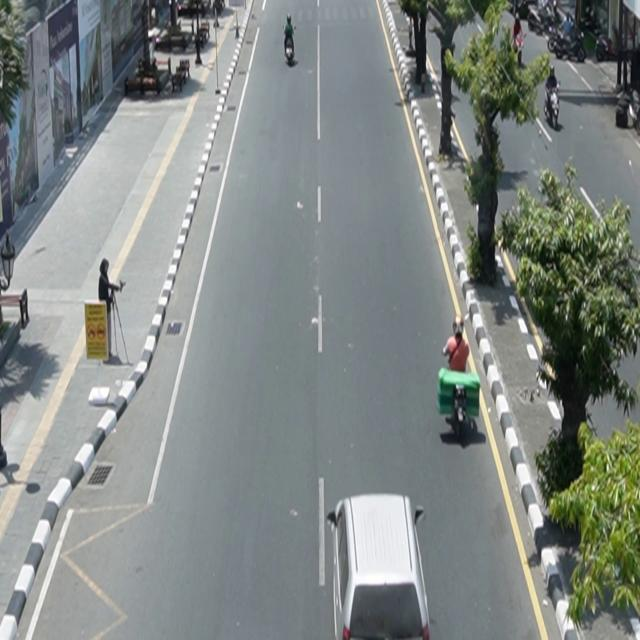car: (328, 494, 432, 640)
